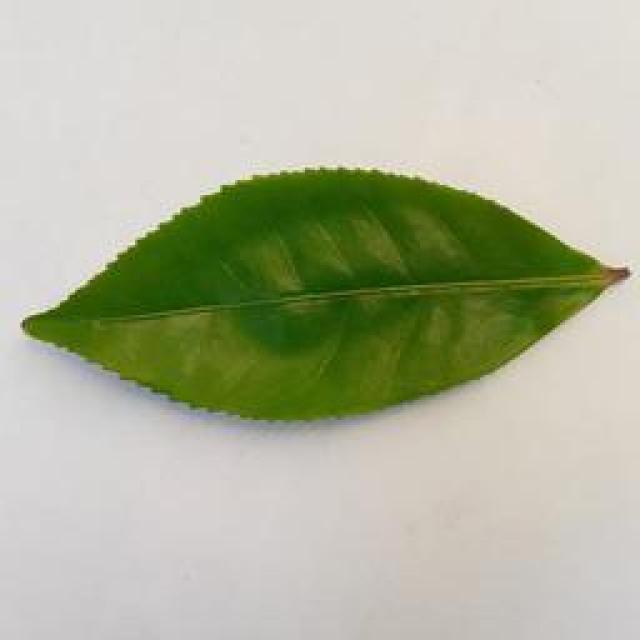Healthy: (24, 160, 630, 430)
